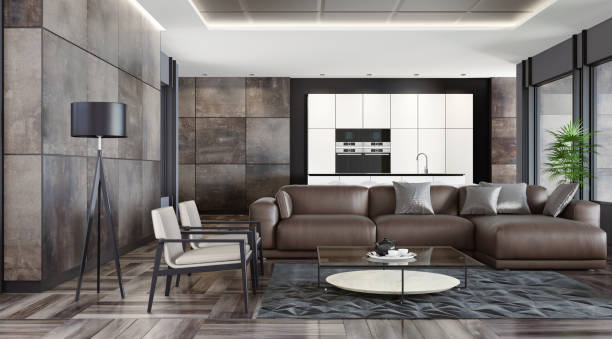chair: (145, 205, 253, 319), (176, 198, 264, 291)
floor lamp: (67, 97, 127, 301)
large plant: (547, 124, 602, 199)
sofa: (246, 177, 608, 278)
table: (312, 241, 484, 307)
